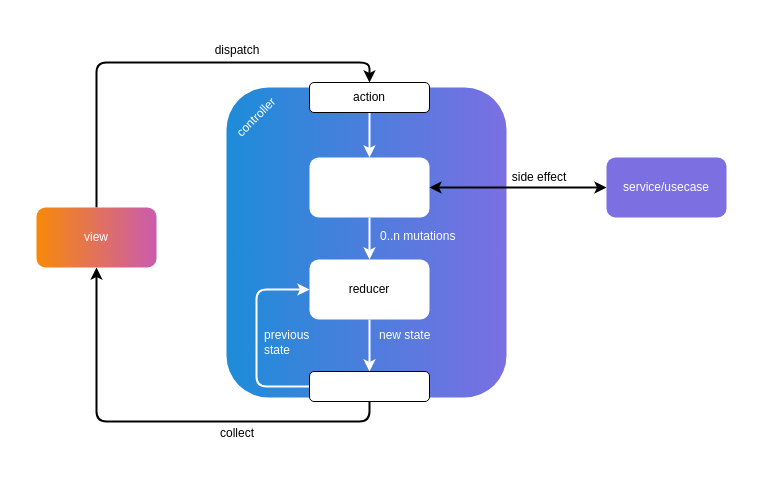
The diagram is 764 pixels wide and 484 high, and some of its shapes have lost their labels. The shapes that lost their labels are listed below. From the top down, each one's box as (x1, y1, x2, y2) in pixels, then its label:
(309, 157, 429, 217): mutator
(308, 370, 430, 402): state
